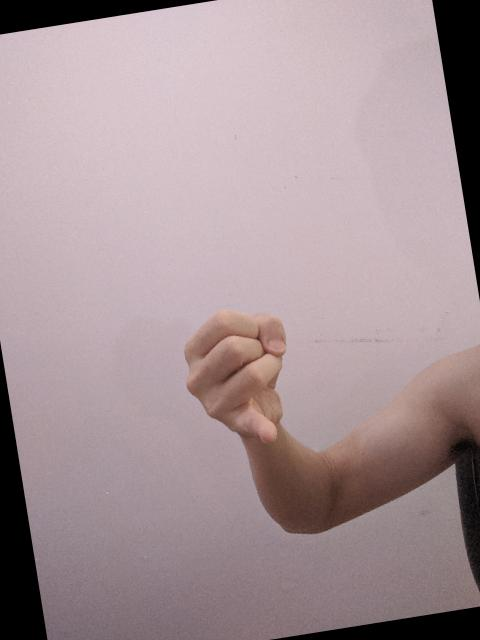J: (170, 296, 308, 458)
